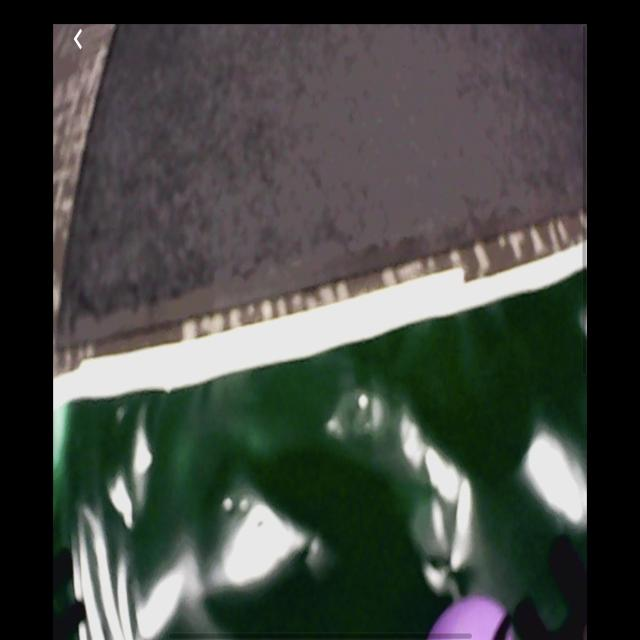ball: (429, 601, 522, 640)
